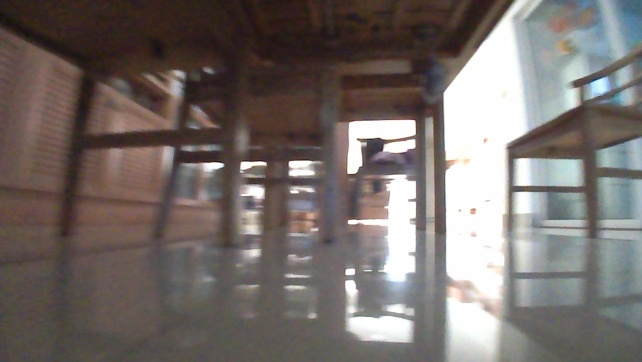dining_table1: (0, 0, 641, 254)
